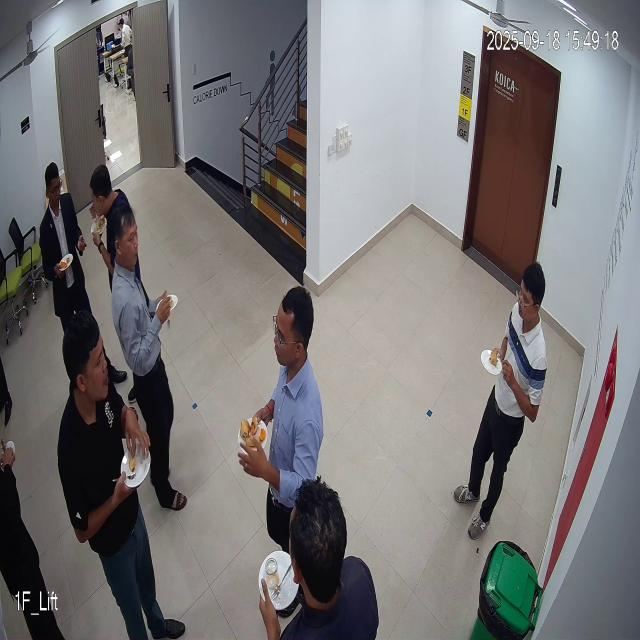face: (270, 282, 318, 373), (106, 198, 142, 276), (513, 261, 545, 325)
